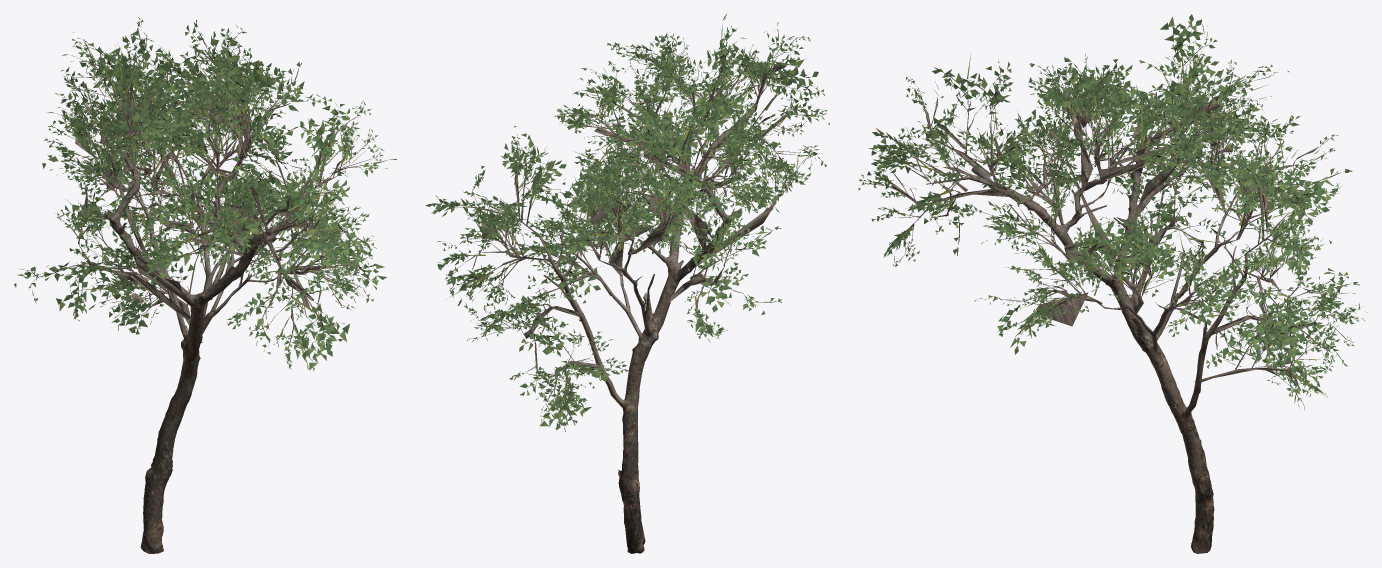
Rendered from natural-broadleaf-clear.glb.
3 views of the same model, side by side, from view 1: azimuth 30°, elevation 25°; view 2: azimuth 150°, elevation 25°; view 3: azimuth 270°, elevation 25° (orthographic). The views are drawn at different scales.
Parts seen in each view (by area): view 1: natural-broadleaf-clear runtime mesh; view 2: natural-broadleaf-clear runtime mesh; view 3: natural-broadleaf-clear runtime mesh.
Boxes of the visible parts, x1,y1,x2,y2 form: natural-broadleaf-clear runtime mesh: (14,17,396,553); natural-broadleaf-clear runtime mesh: (425,14,829,553); natural-broadleaf-clear runtime mesh: (858,14,1367,553).
Bounding box in the file's own units: 3.14 × 4.89 × 4.52.
3 materials, 3 textured.
